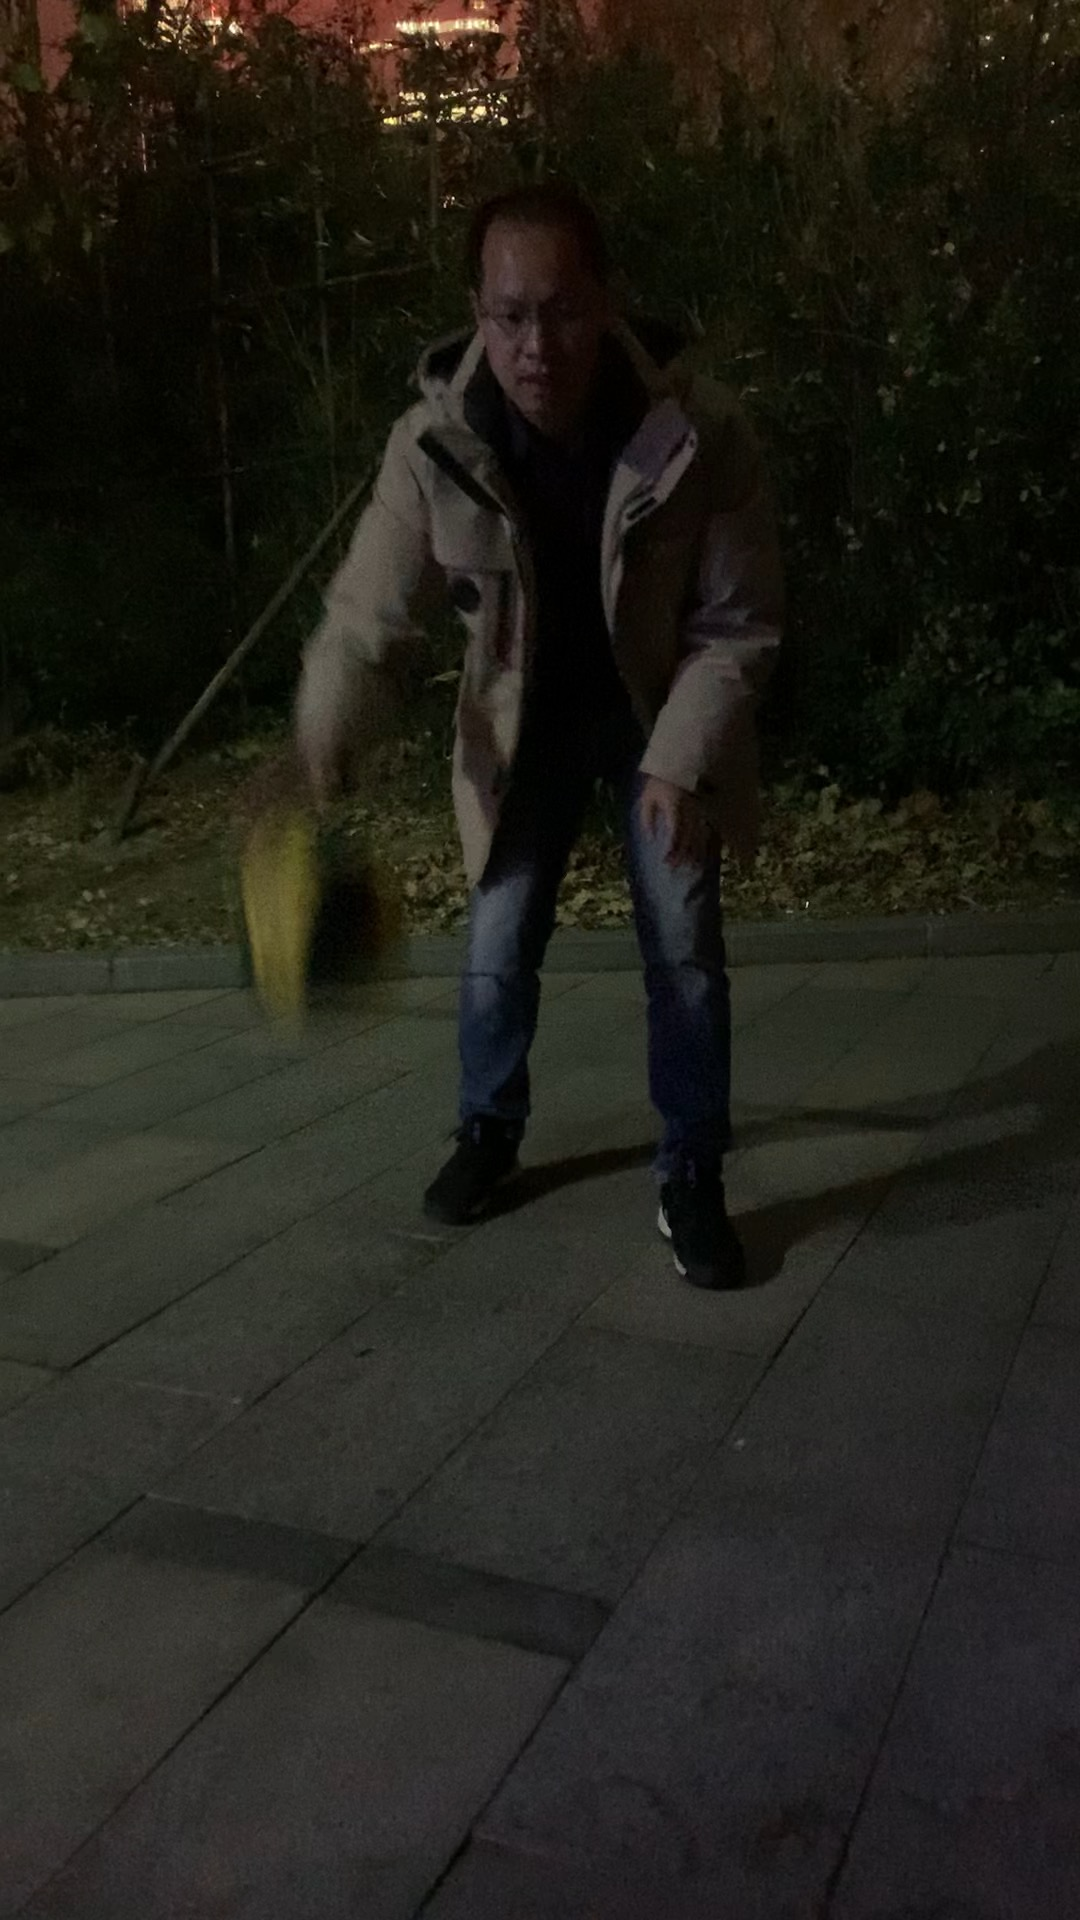ball: (222, 829, 413, 1019)
